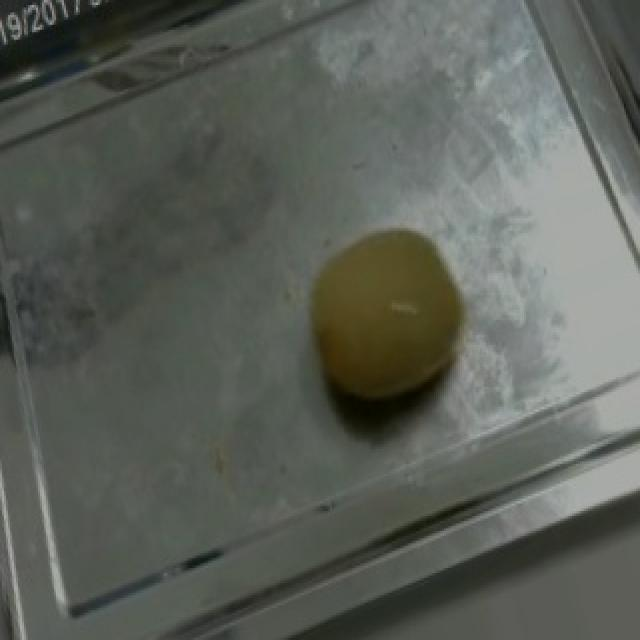Fruit: (268, 201, 496, 444)
